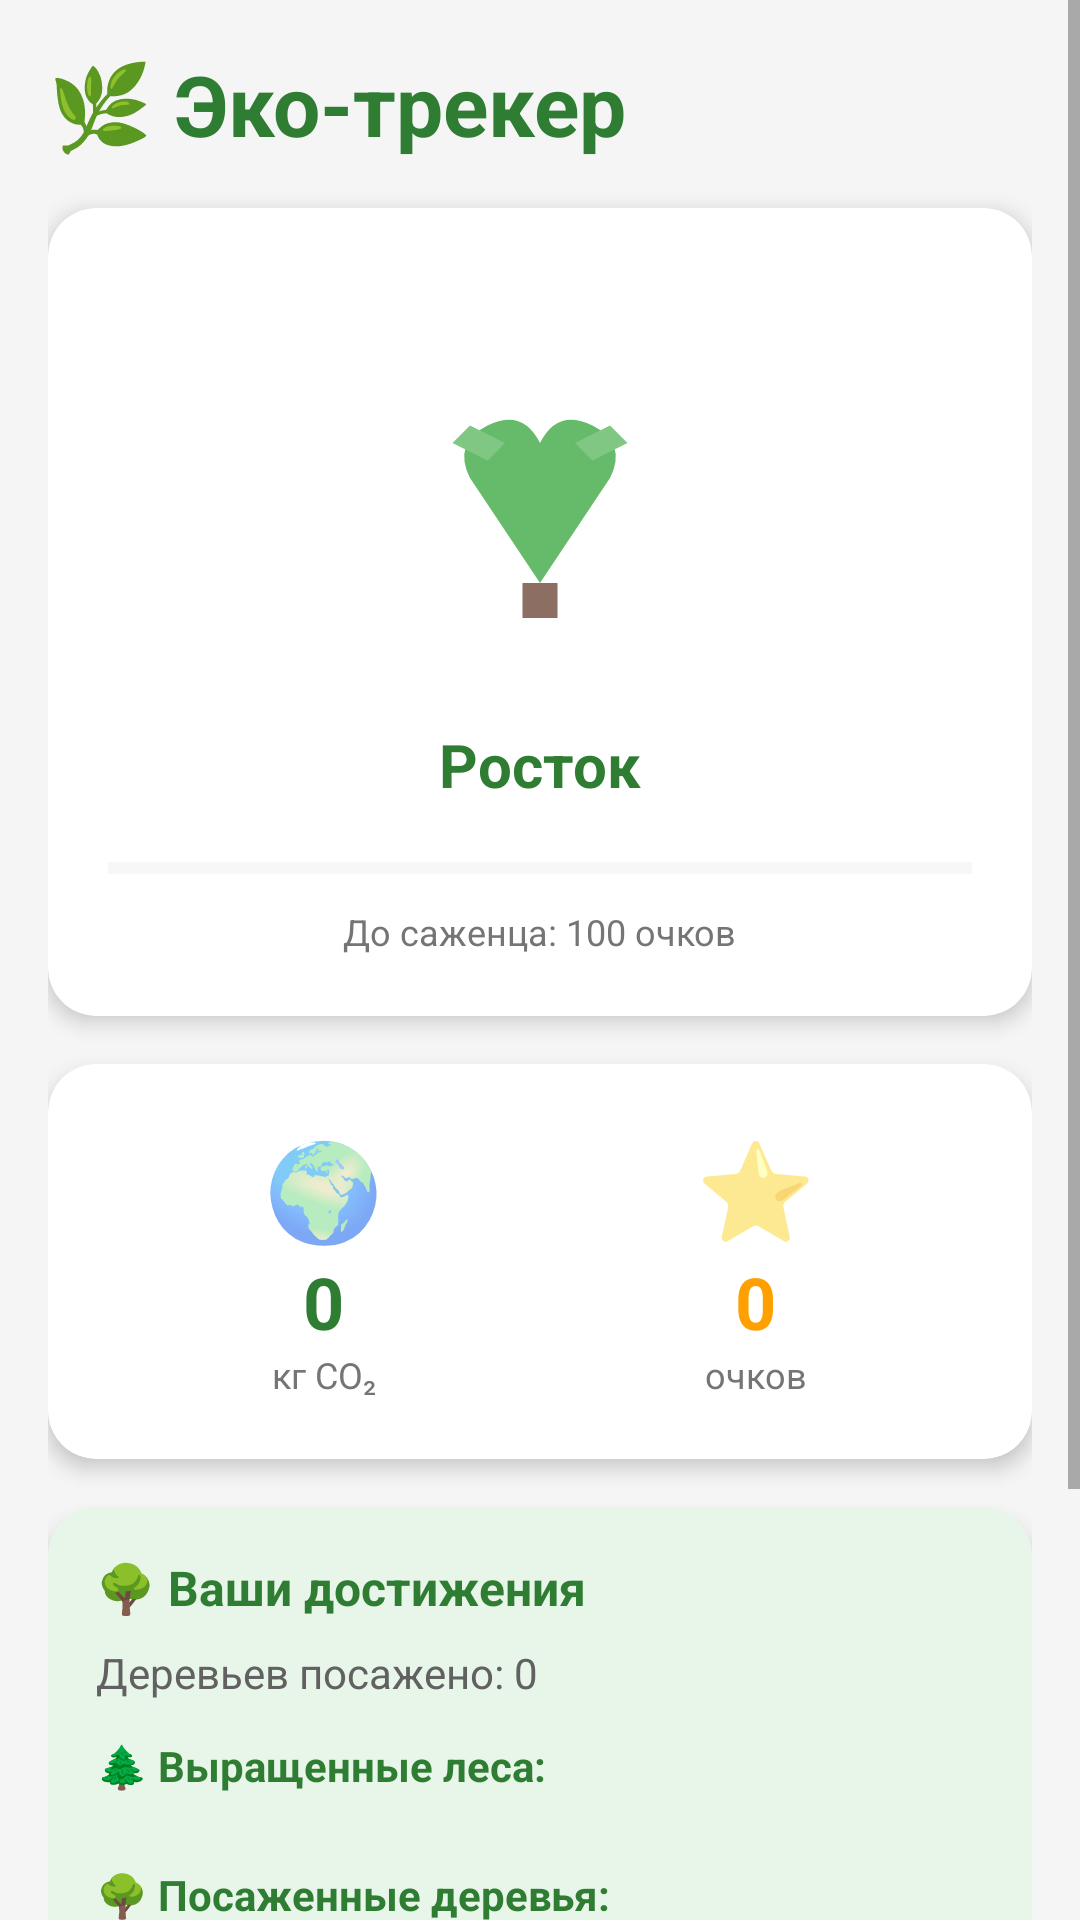

Icon click points for this 1080px×1920px phone screenshot, format point (x, y):
sprout: point (540, 518)
